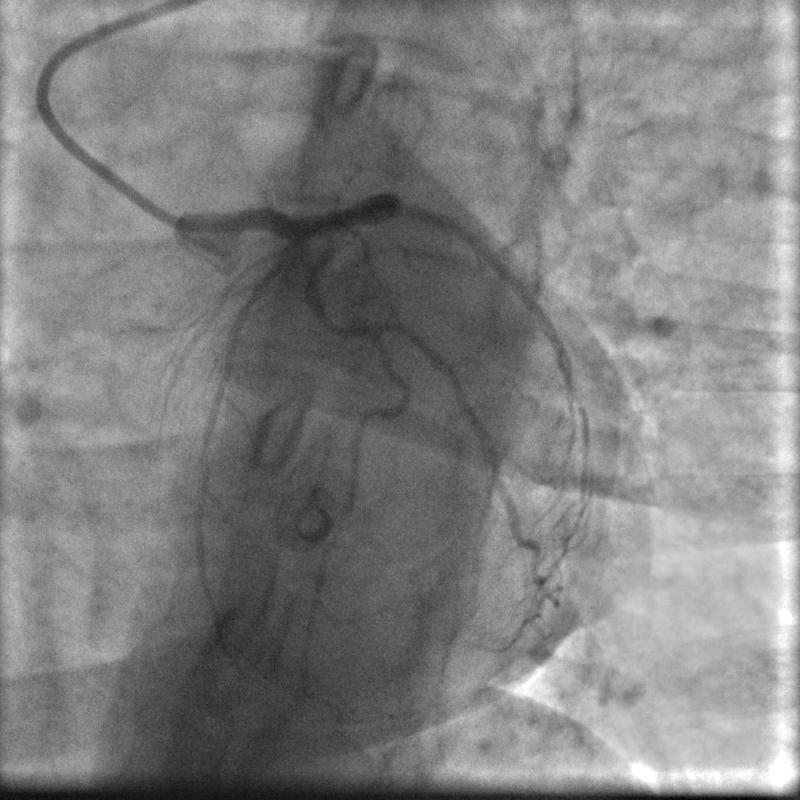Stenosis: (315, 310, 361, 343)
